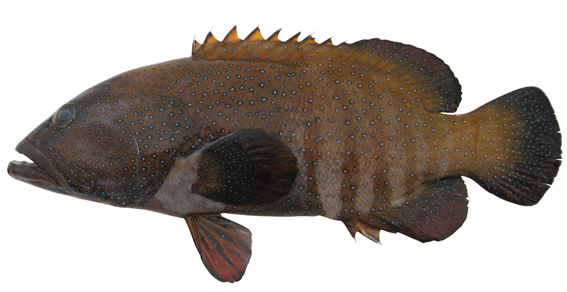fish: (6, 27, 563, 284)
